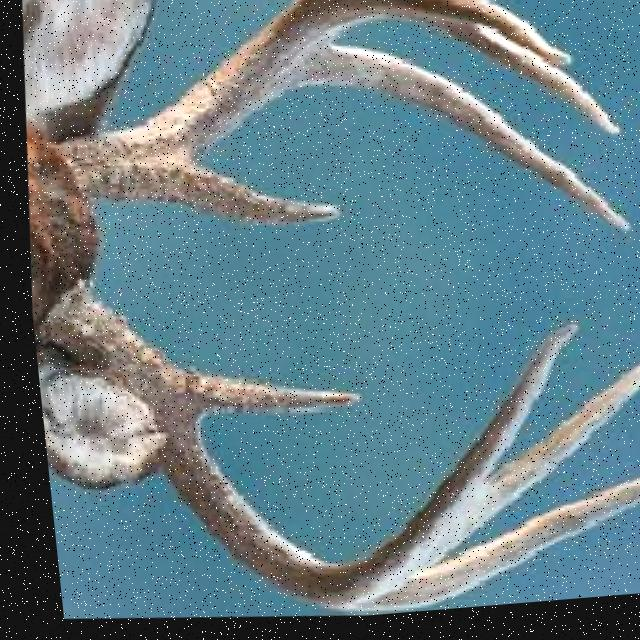L-F: (27, 283, 569, 614)
L-G1: (166, 369, 355, 426)
L-G2: (330, 483, 640, 619)
L-G3: (457, 367, 640, 535)
R-F: (56, 0, 571, 203)
R-G1: (145, 167, 337, 228)
R-G2: (295, 48, 625, 242)
